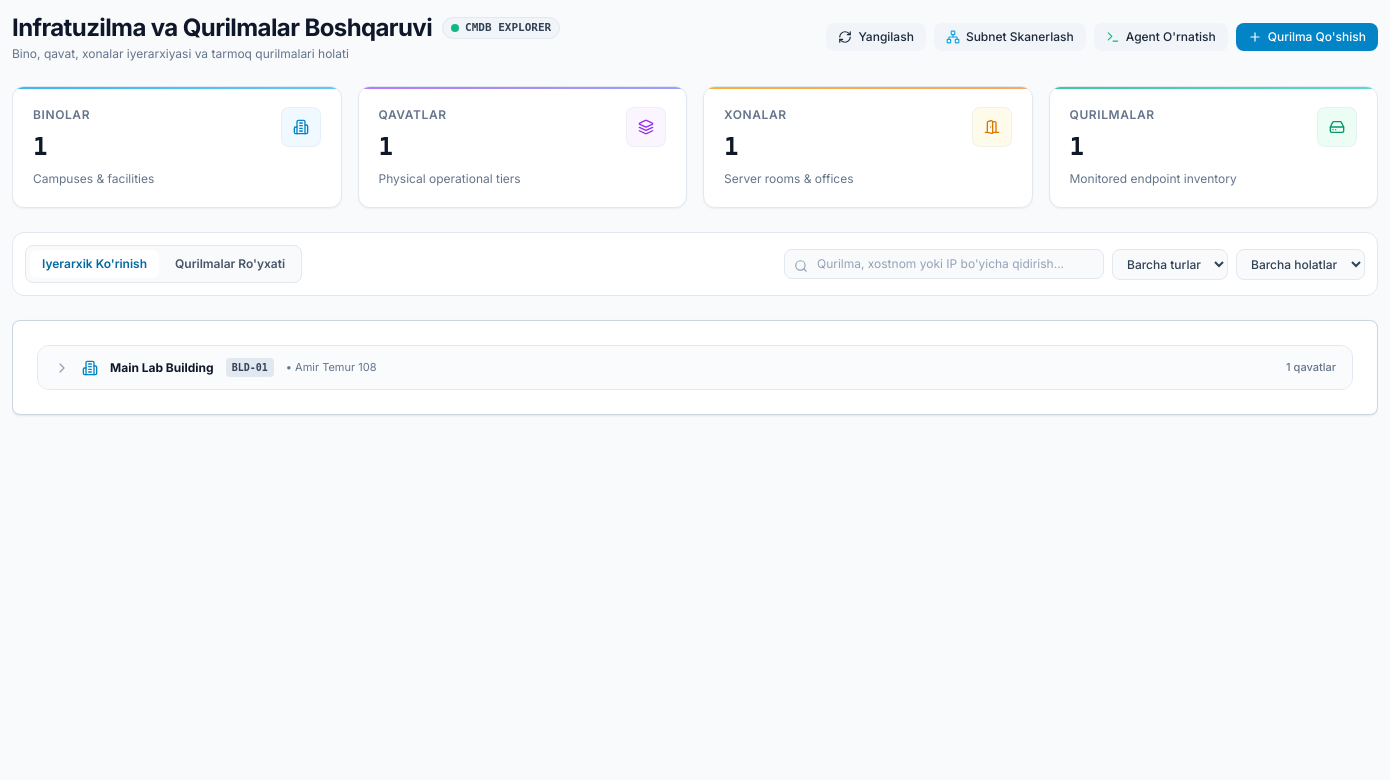
Test: InventoryExplorerPage Component & Module 5.2.1 › renders hierarchy tree view with buildings, floors, rooms and device badges
The image size is (1390, 780).
Expected: the text "BLD-01" is shown, [226,358,274,377]
Note: Expand building
Click the text "Main Lab Building". click: (162, 368)
box: [110,360,214,376]
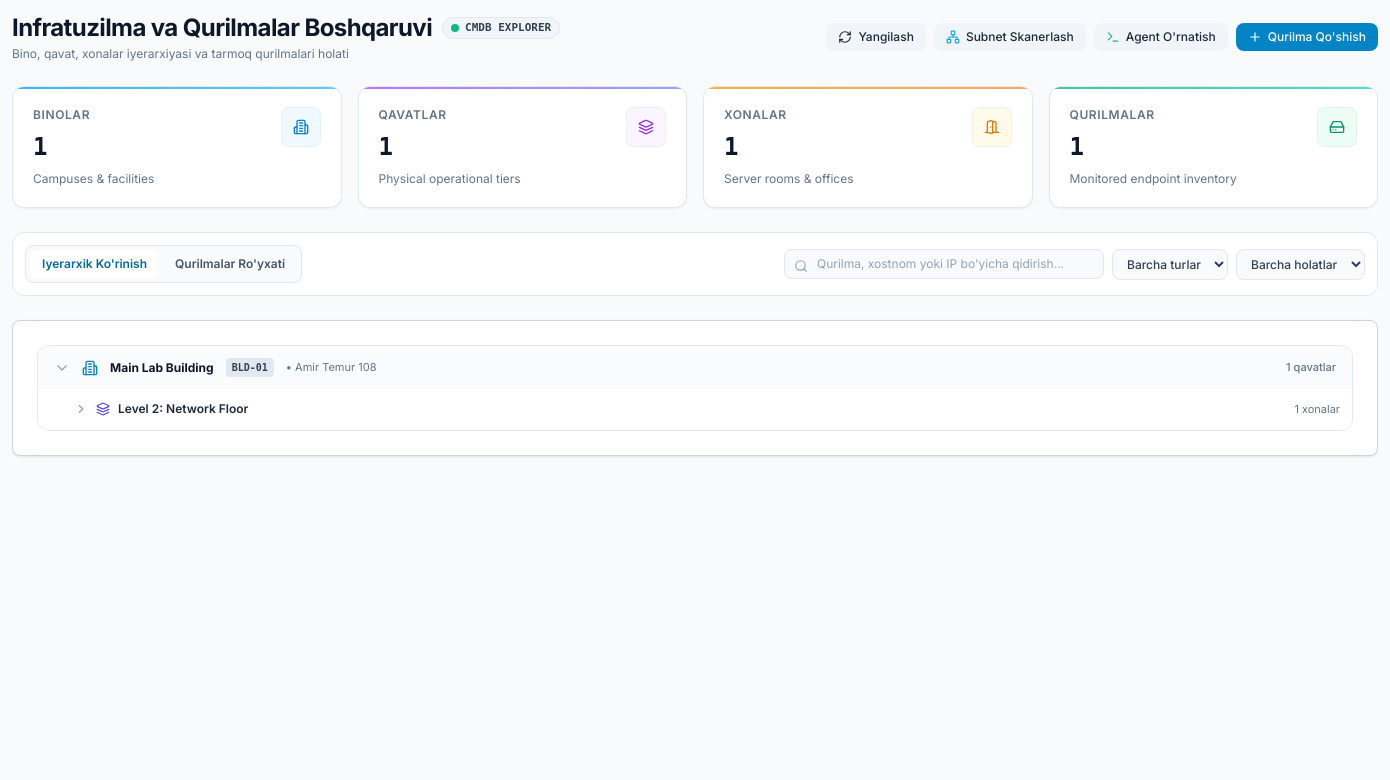
Expected: the text "Level 2: Network Floor" is shown
Note: Expand floor
Click the text "Level 2: Network Floor". click: (183, 409)
box: [118,401,248,417]
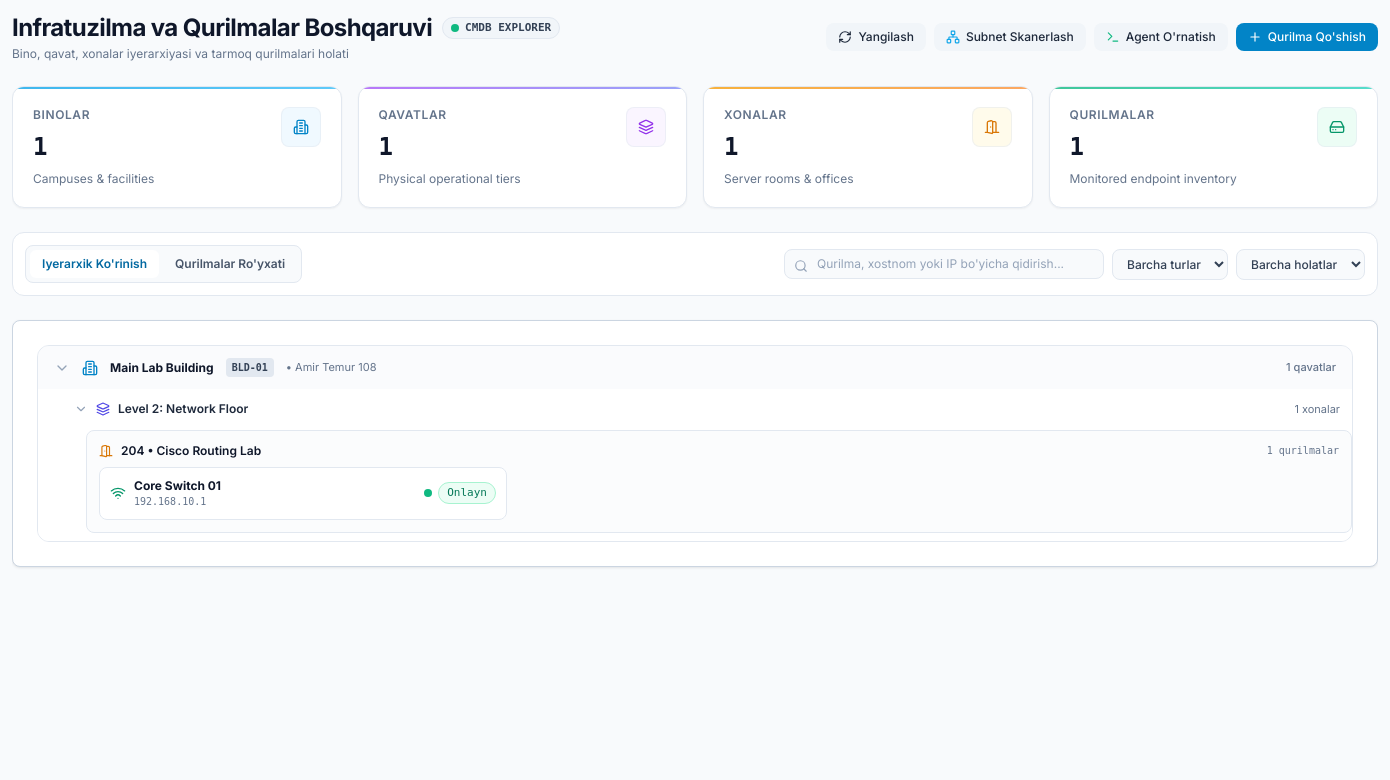
Expected: the text "204 • Cisco Routing Lab" is shown, [121,442,261,458]
Expected: the text "Core Switch 01" is shown, [134,478,221,494]
